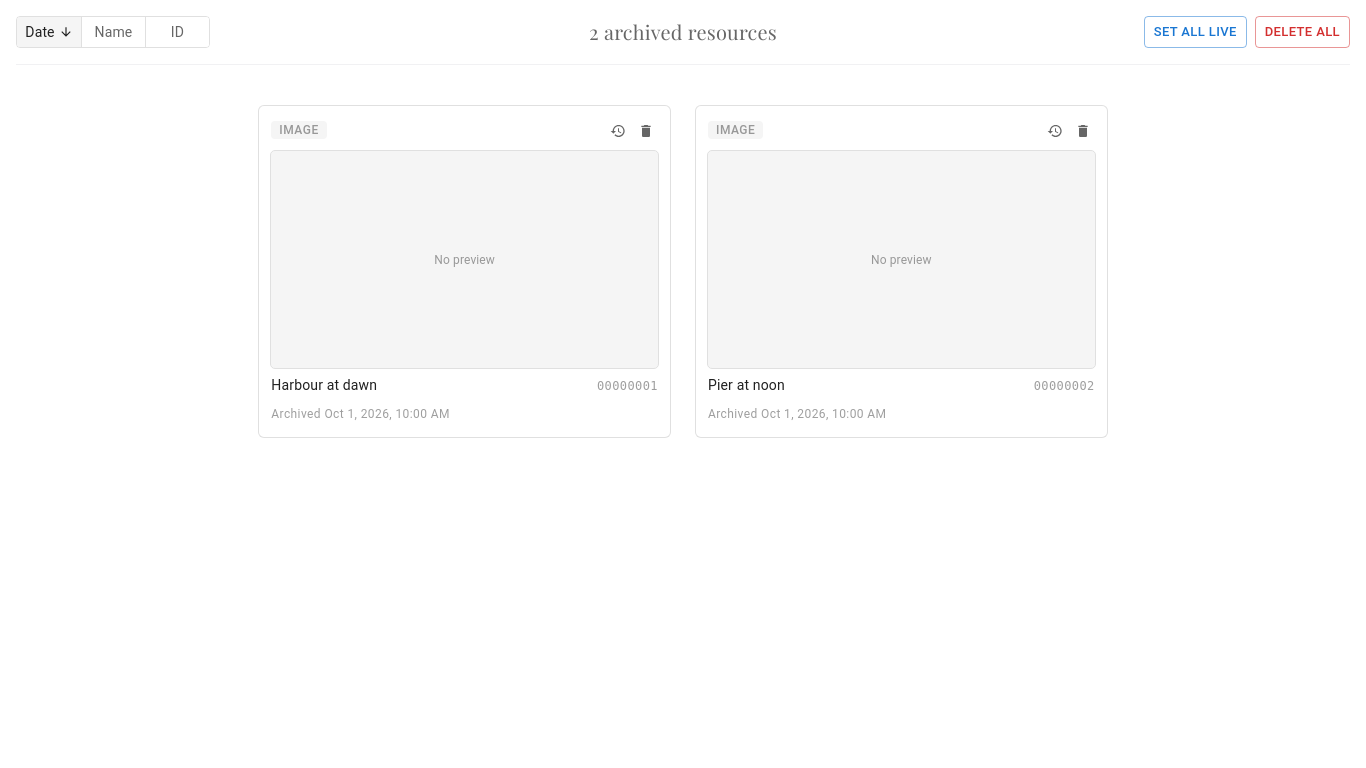
Scenario: ArchivedPage › deletes all archived resources after confirming, reporting skips
Step 1. Click the button "Delete all" → {"x": 1302, "y": 32}, box [1255, 16, 1350, 48]
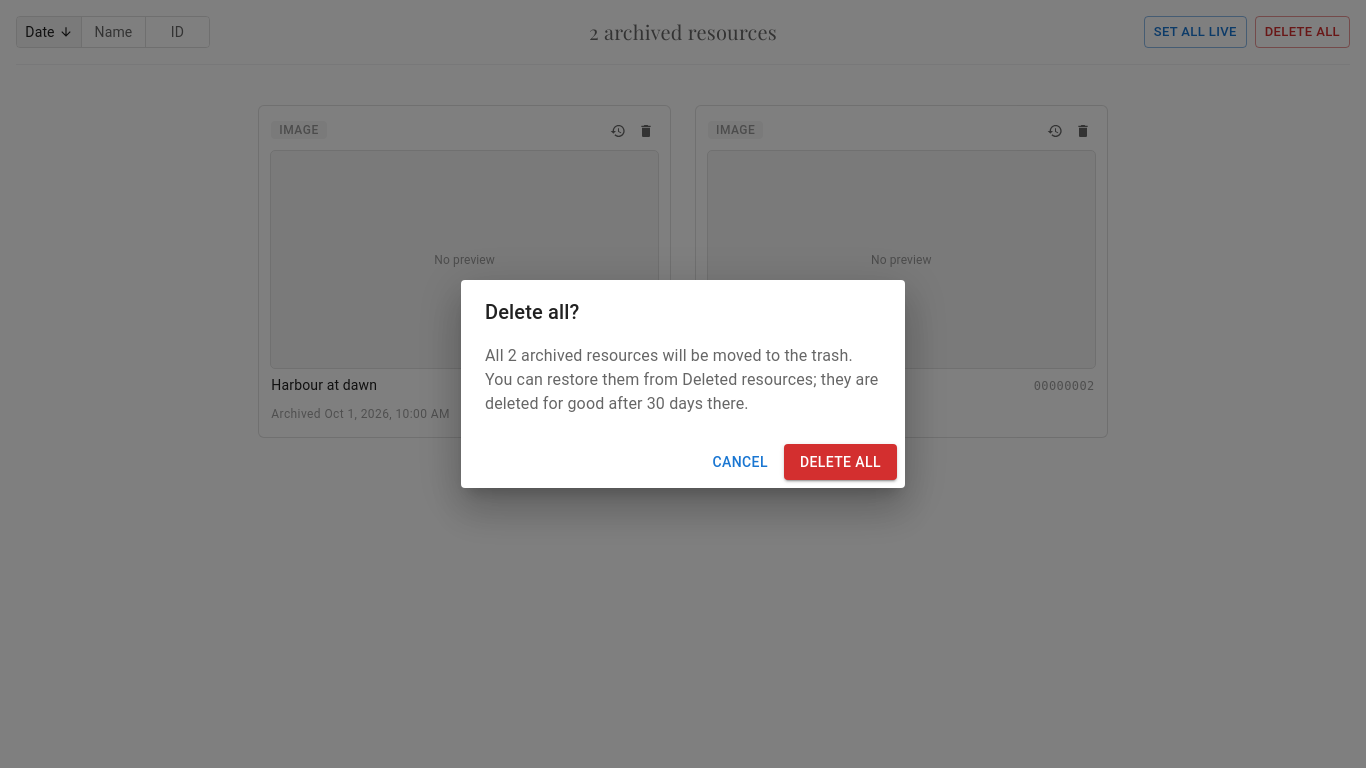
Step 2. Click the button "Delete all" → {"x": 840, "y": 462}, box [784, 444, 897, 480]
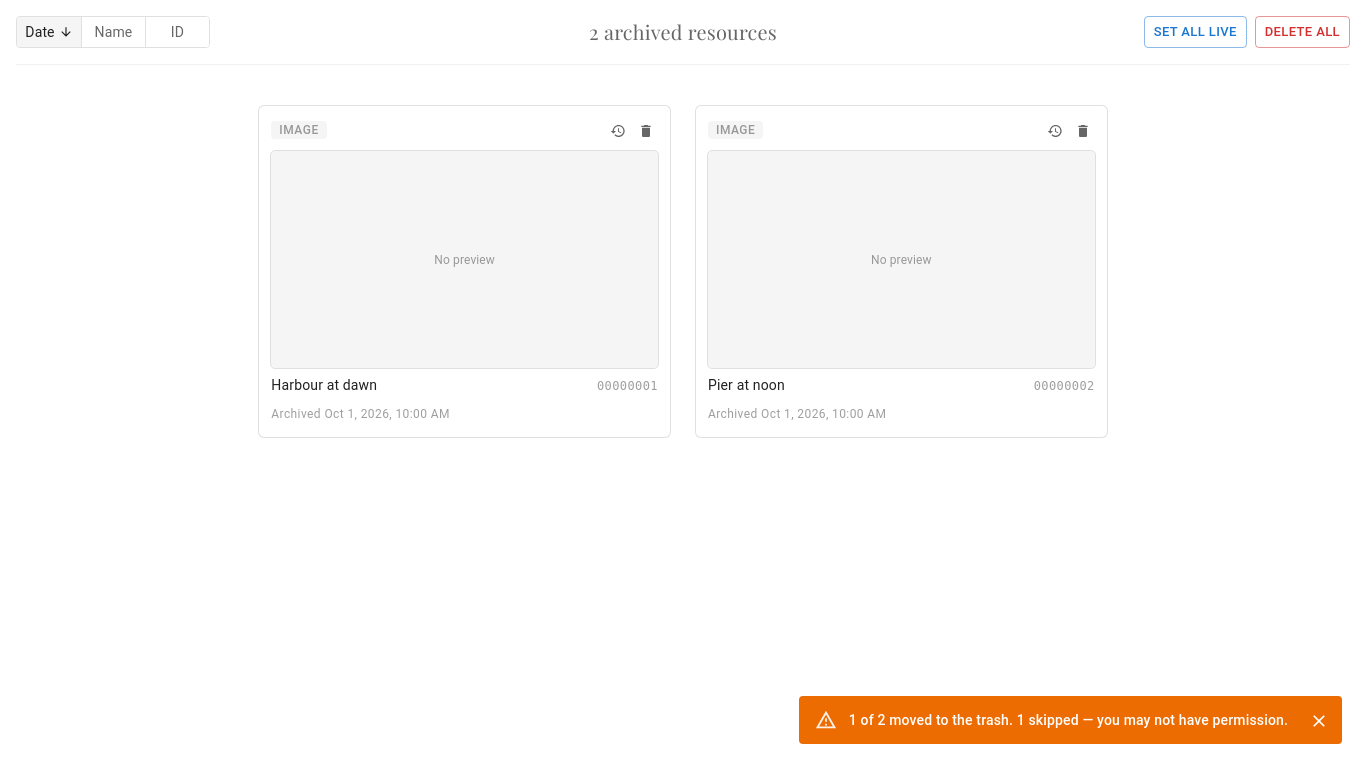
expect the text "1 of 2 moved to the trash. 1 skipped" is shown: met, box [849, 712, 1288, 728]
